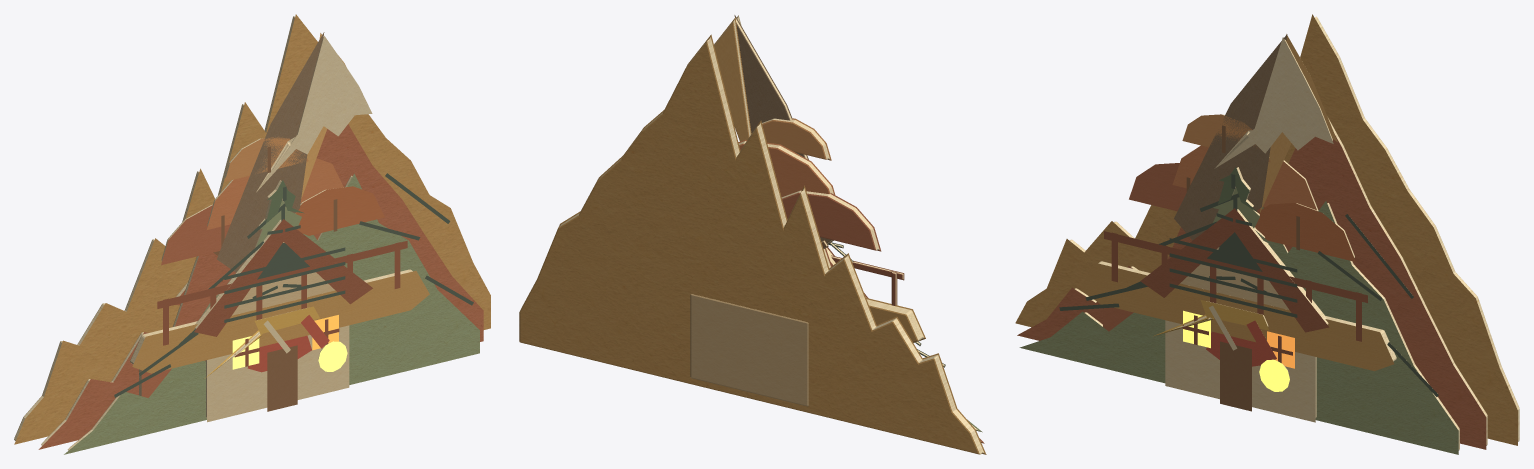
Rendered from atlas.glb.
3 renders of one model, left to right at view 1: azimuth 30°, elevation 25°; view 2: azimuth 150°, elevation 25°; view 3: azimuth 330°, elevation 25°, orthographic. The views are drawn at different scales.
Visible parts, largest first — view 1: mountain_paper_assembly, house_paper_assembly, bridge_paper_assembly, birch_paper_assembly, traveler_paper_assembly, fir_paper_assembly; view 2: mountain_paper_assembly, house_paper_assembly, birch_paper_assembly, bridge_paper_assembly; view 3: mountain_paper_assembly, house_paper_assembly, bridge_paper_assembly, birch_paper_assembly, traveler_paper_assembly, fir_paper_assembly.
Part boxes in pixels (x1,y1,x2,y2): mountain_paper_assembly: [14, 14, 490, 454]; house_paper_assembly: [175, 219, 372, 422]; bridge_paper_assembly: [130, 240, 429, 397]; birch_paper_assembly: [161, 136, 384, 265]; traveler_paper_assembly: [204, 243, 347, 378]; fir_paper_assembly: [252, 180, 313, 298]; mountain_paper_assembly: [519, 15, 986, 454]; house_paper_assembly: [690, 243, 868, 406]; birch_paper_assembly: [738, 118, 881, 251]; bridge_paper_assembly: [831, 255, 925, 342]; mountain_paper_assembly: [1015, 14, 1519, 454]; house_paper_assembly: [1140, 208, 1329, 422]; bridge_paper_assembly: [1080, 231, 1396, 371]; birch_paper_assembly: [1129, 114, 1355, 261]; traveler_paper_assembly: [1153, 232, 1289, 391]; fir_paper_assembly: [1209, 167, 1272, 291].
Bounding box in the file's own units: 3.83 × 2.79 × 0.564.
53 materials, 53 textured.
